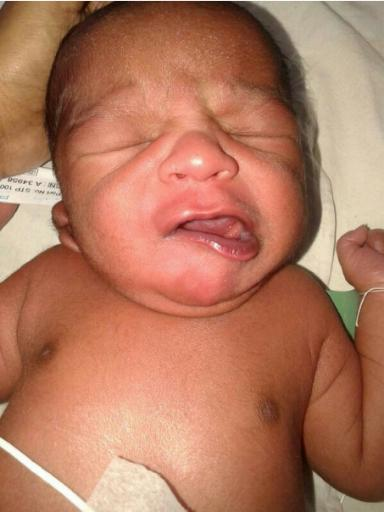left_eye: (222, 119, 302, 153)
right_eye: (80, 136, 157, 161)
right_lip_corner: (162, 220, 186, 242)
